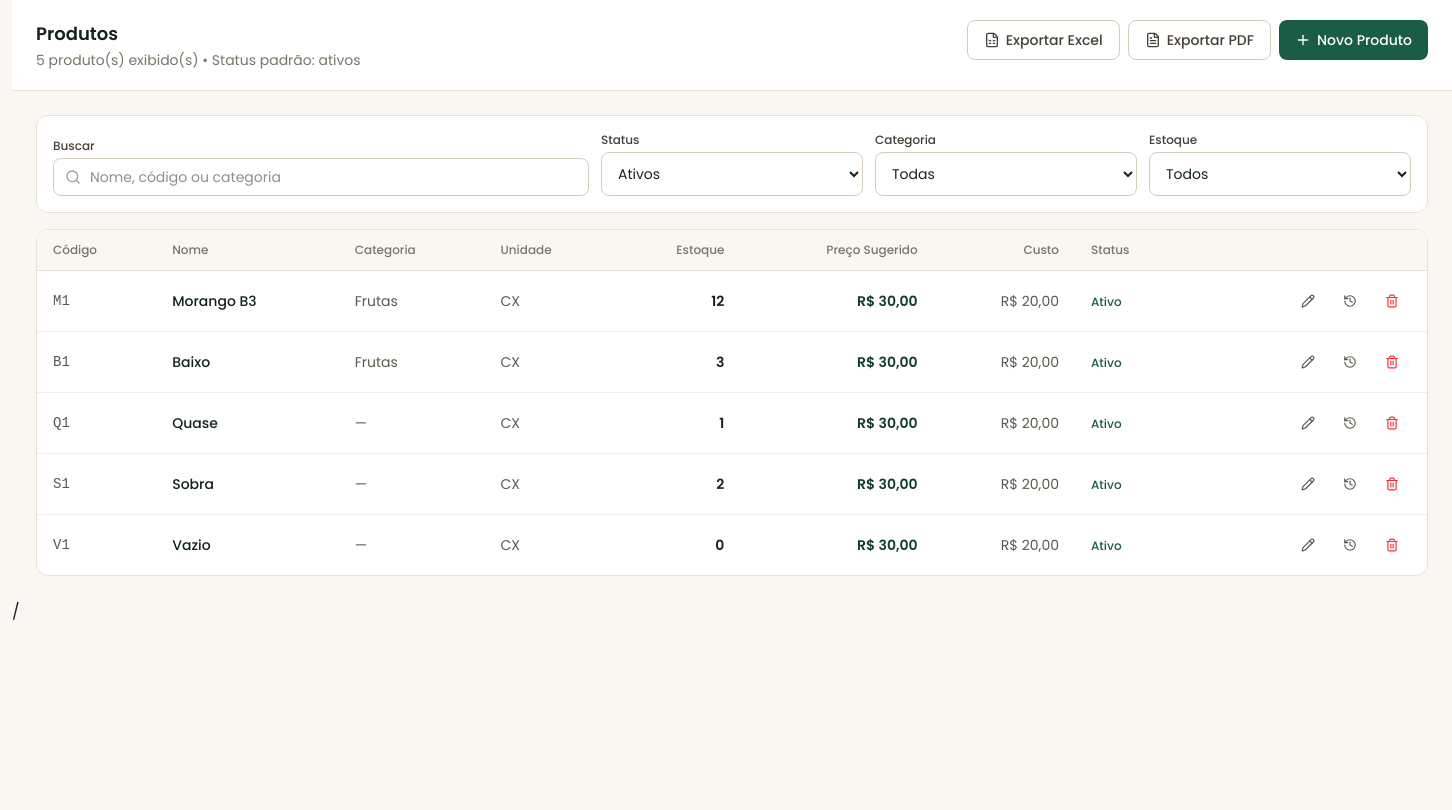
Scenario: Produtos › filtros de status, busca, categoria e estoque
Earlier steps of the test are not shown.
In the field with placeholder "Nome, código ou categoria": point(321, 177) [53, 158, 589, 196], type "FRUT"
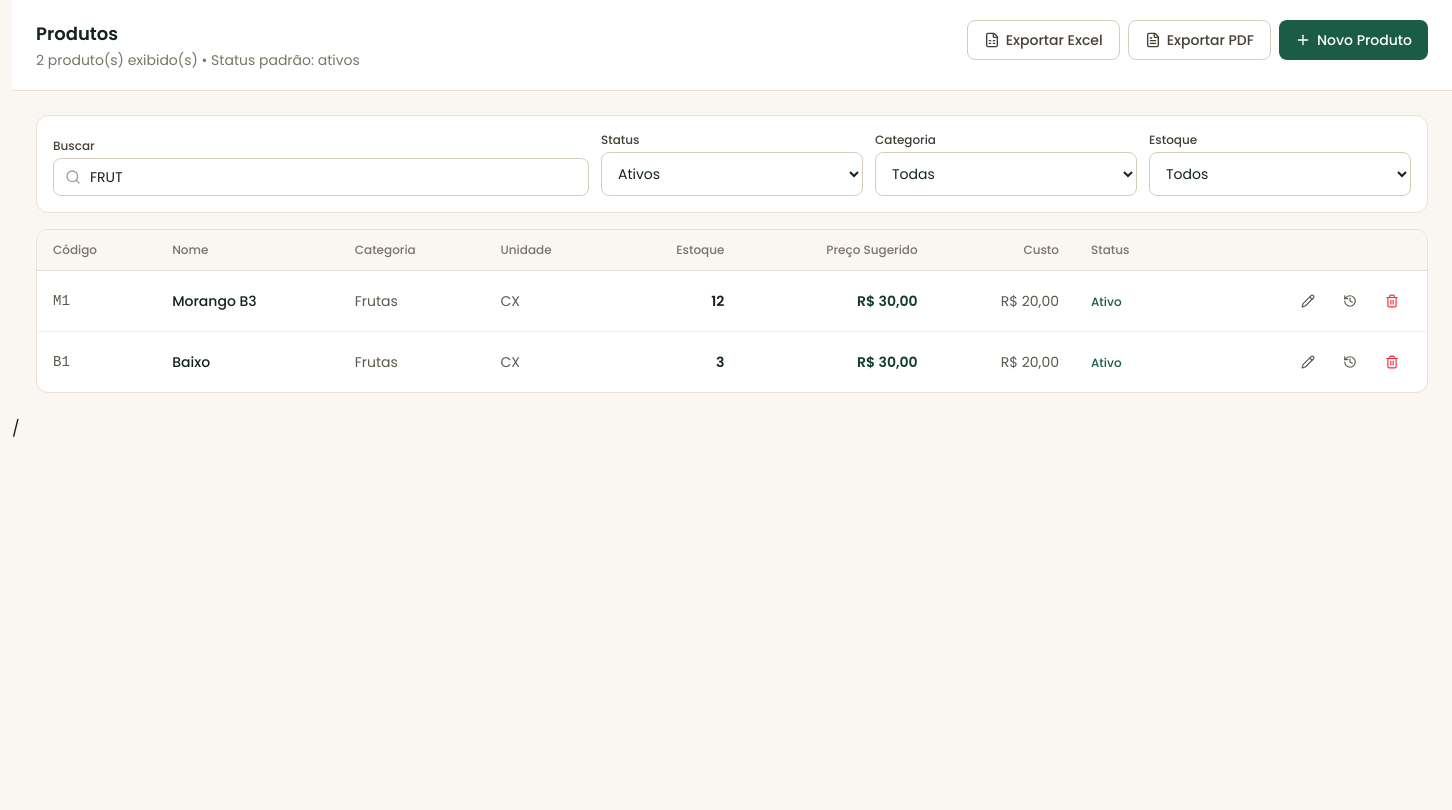
Replace the text in the field with placeholder "Nome, código ou categoria" with "q1": point(321, 177) [53, 158, 589, 196]
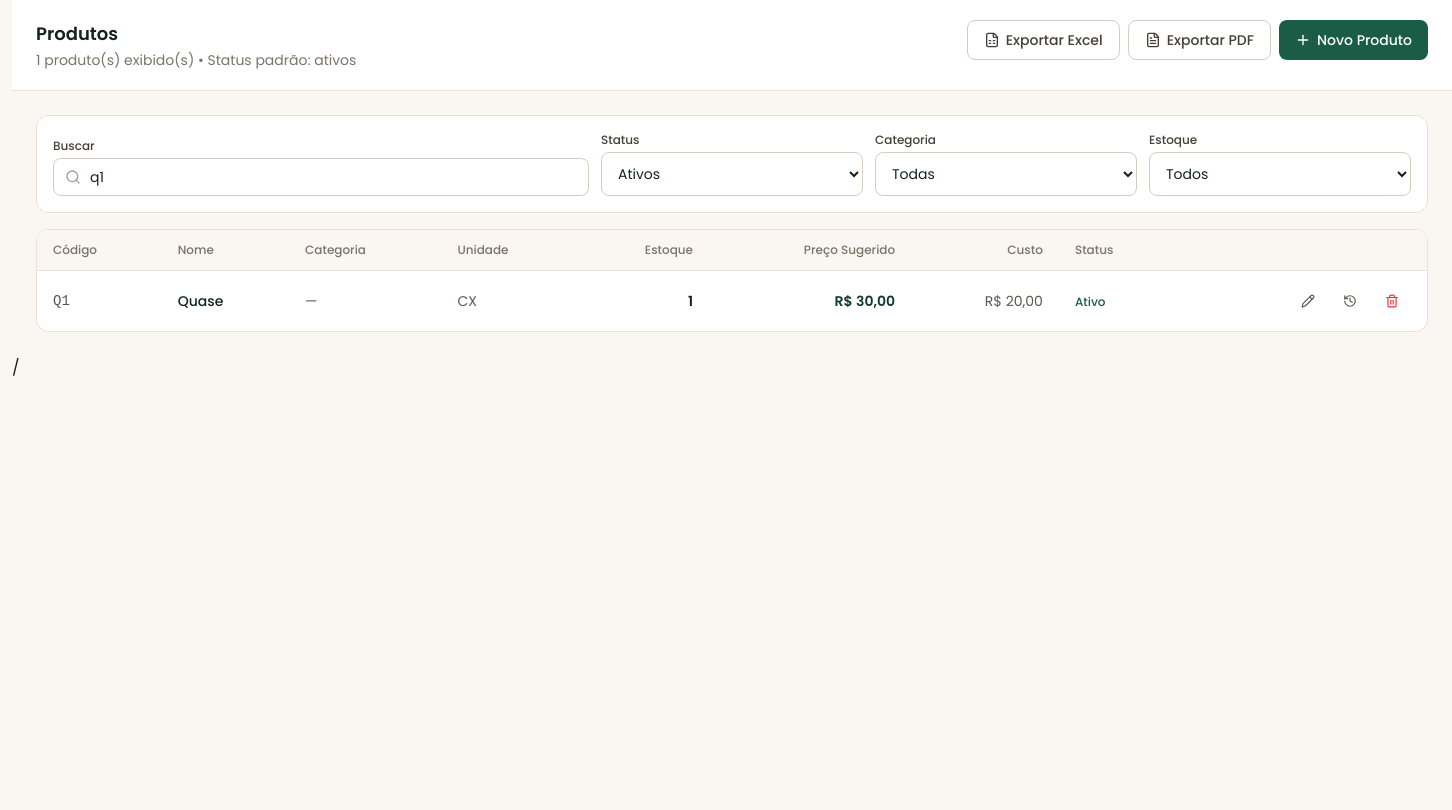
Clear the field with placeholder "Nome, código ou categoria": point(321, 177) [53, 158, 589, 196]
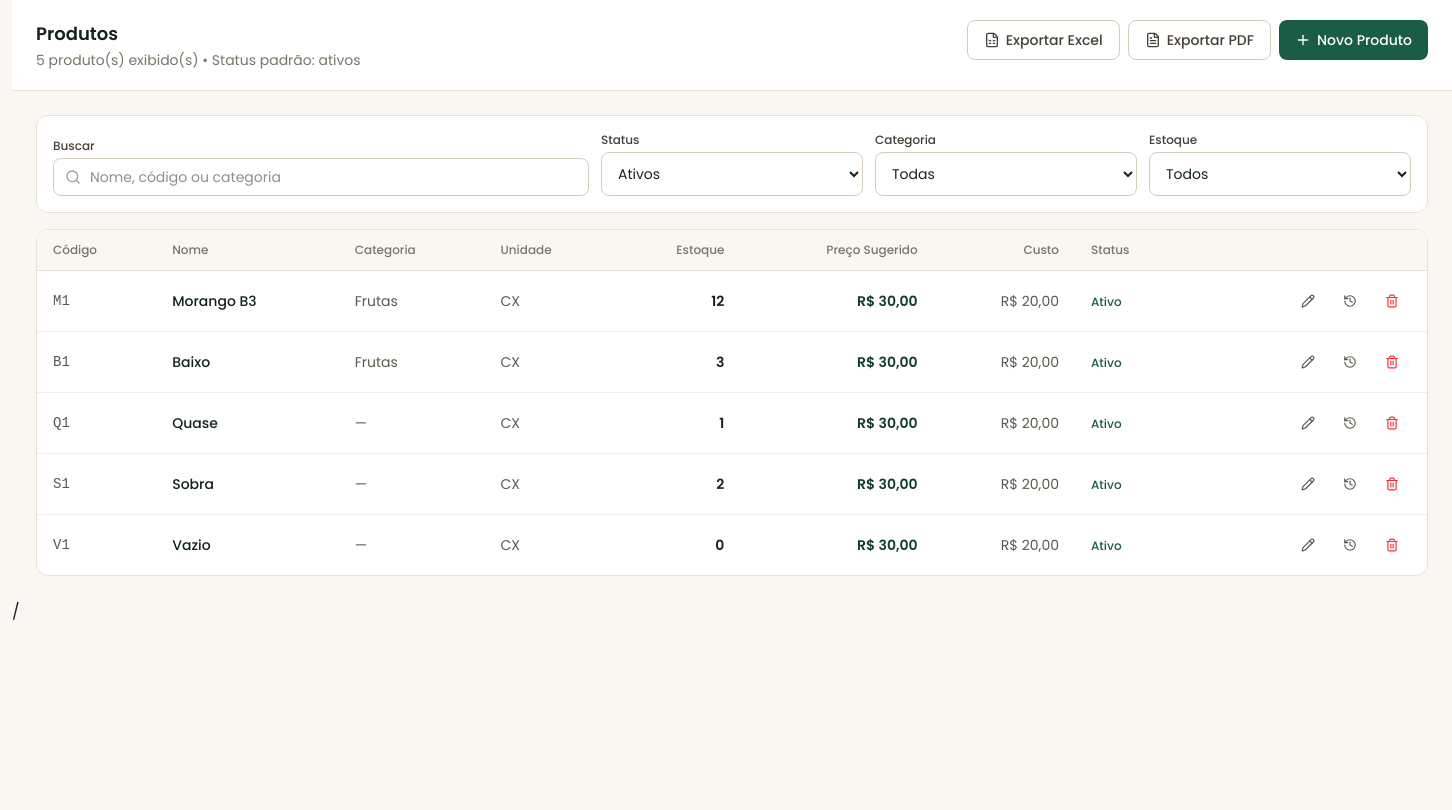
Select "Inativos" in the 1st dropdown: point(732, 174) [601, 152, 863, 196]
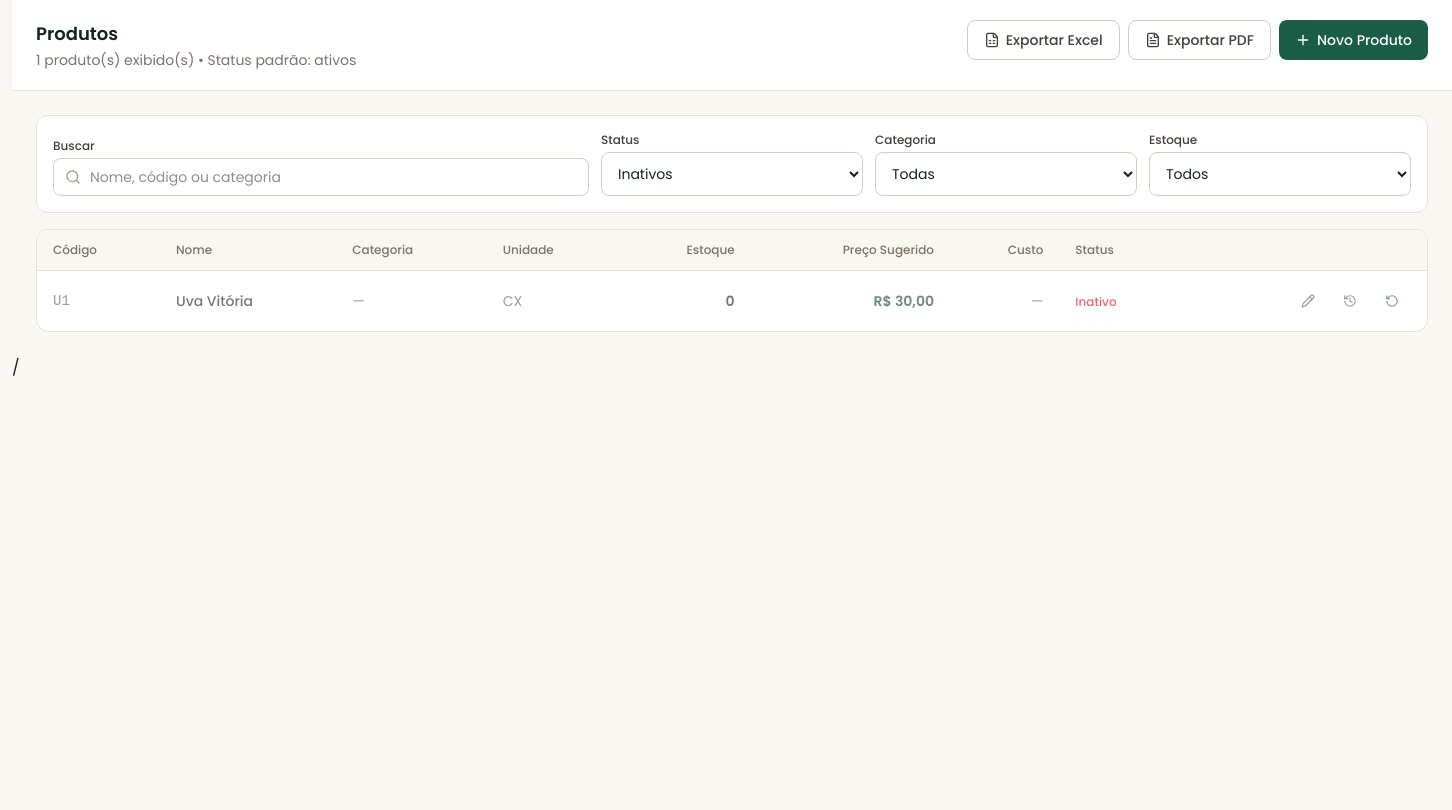
Select "Todos" in the 1st dropdown: point(732, 174) [601, 152, 863, 196]
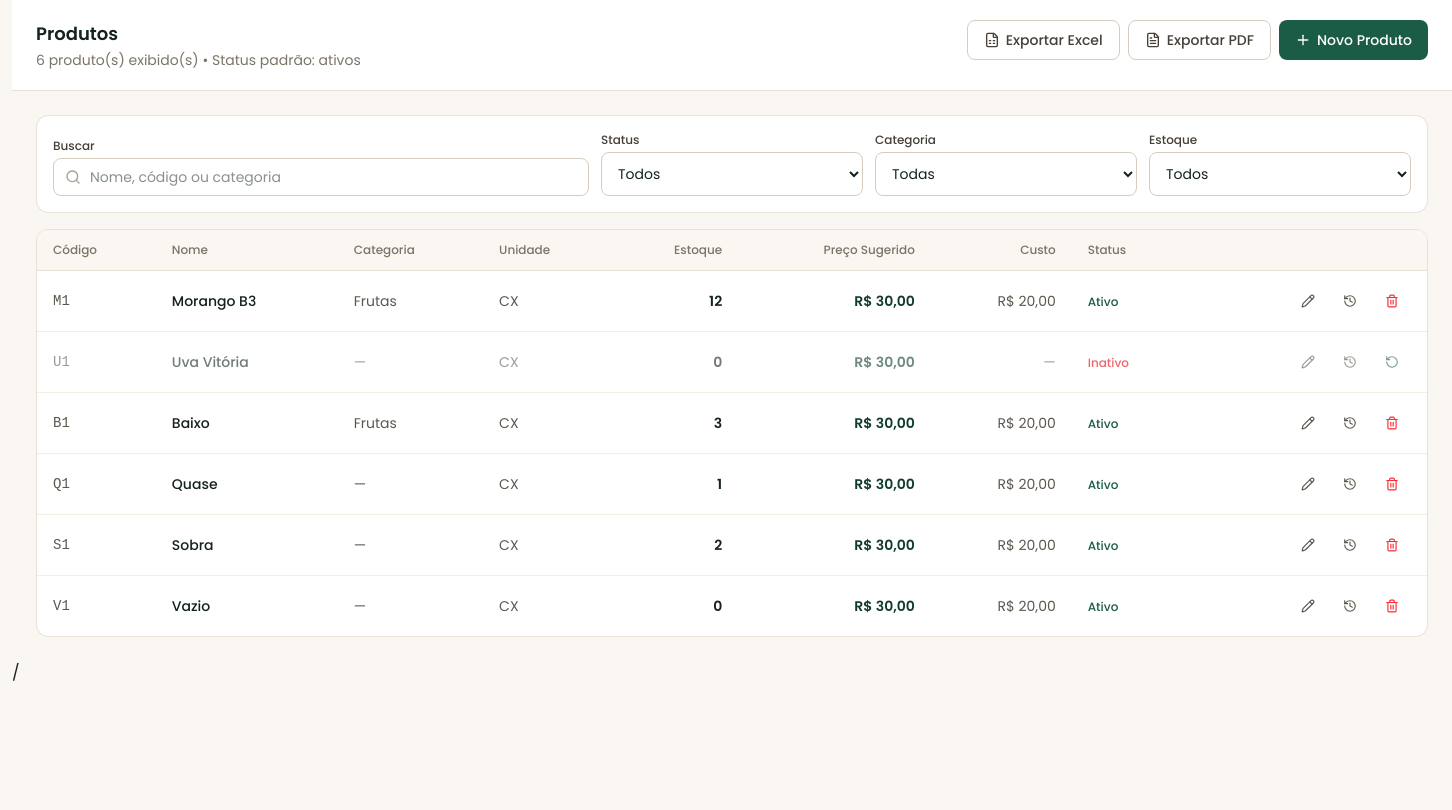
In the field with placeholder "Nome, código ou categoria": point(321, 177) [53, 158, 589, 196], type "nada"
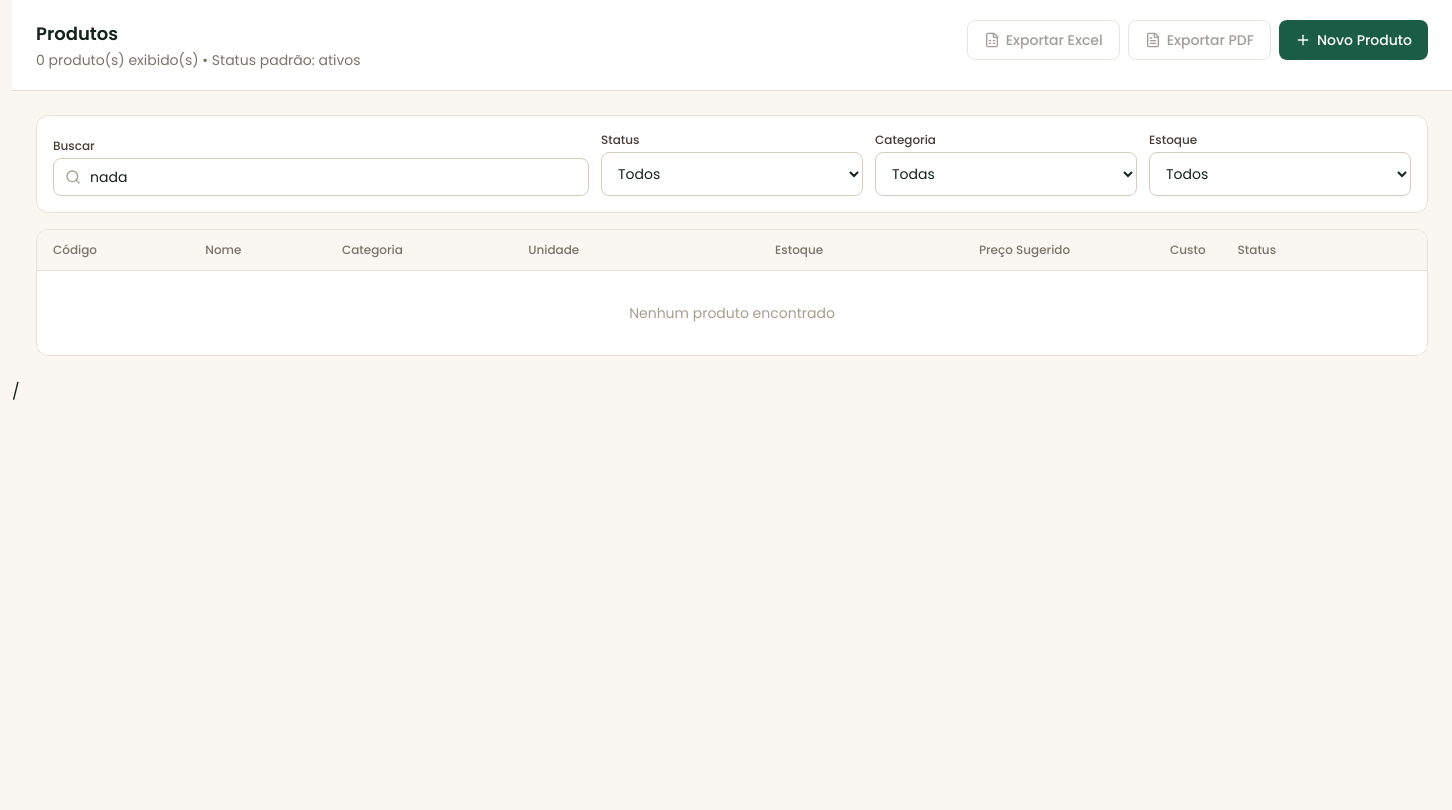
Result: the text "Nenhum produto encontrado" is shown 2 times
Result: the button "Exportar Excel" is disabled at [967, 20, 1120, 60]
